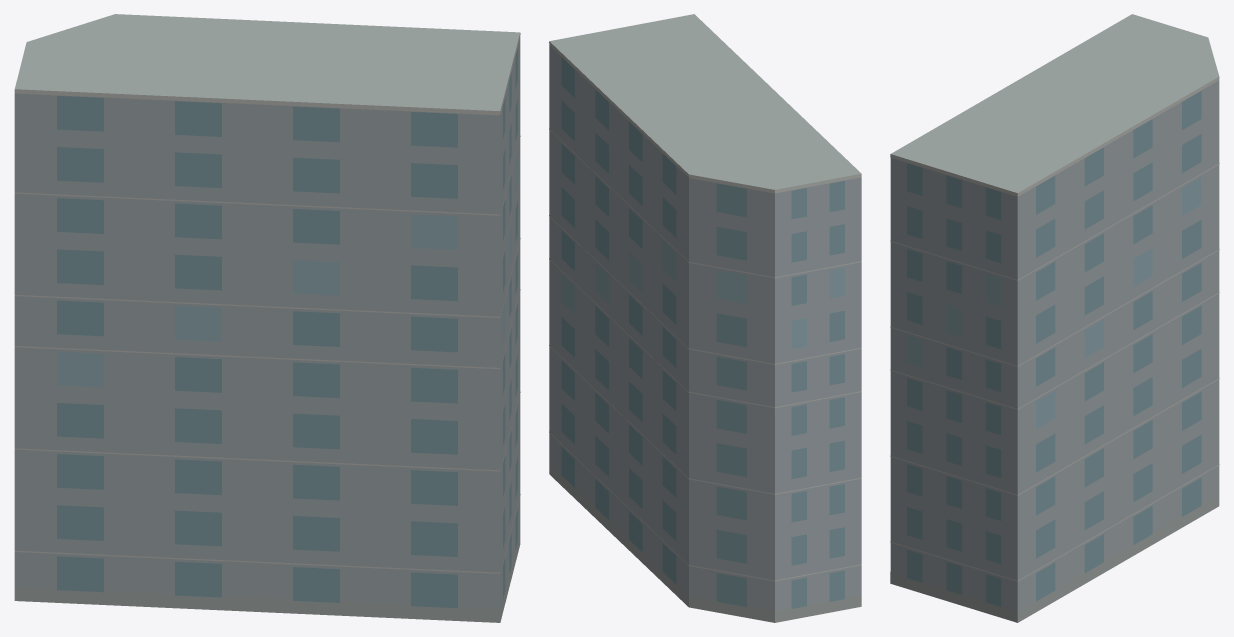
File: residential-b8a89962-5c2f-4453-b7e2-f4117a2cb70b.glb
3 views of the same model, side by side, from view 1: azimuth 30°, elevation 25°; view 2: azimuth 150°, elevation 25°; view 3: azimuth 270°, elevation 25° (orthographic). The views are drawn at different scales.
Visible parts, largest first — view 1: residential-b8a89962-5c2f-4453-b7e2-f4117a2cb70b.tmp; view 2: residential-b8a89962-5c2f-4453-b7e2-f4117a2cb70b.tmp; view 3: residential-b8a89962-5c2f-4453-b7e2-f4117a2cb70b.tmp.
Boxes of the visible parts, left/top/right/bottom form: residential-b8a89962-5c2f-4453-b7e2-f4117a2cb70b.tmp: left=14, top=14, right=520, bottom=622; residential-b8a89962-5c2f-4453-b7e2-f4117a2cb70b.tmp: left=549, top=14, right=861, bottom=622; residential-b8a89962-5c2f-4453-b7e2-f4117a2cb70b.tmp: left=890, top=14, right=1219, bottom=622.
Bounding box in the file's own units: 25.96 × 29 × 20.14.
